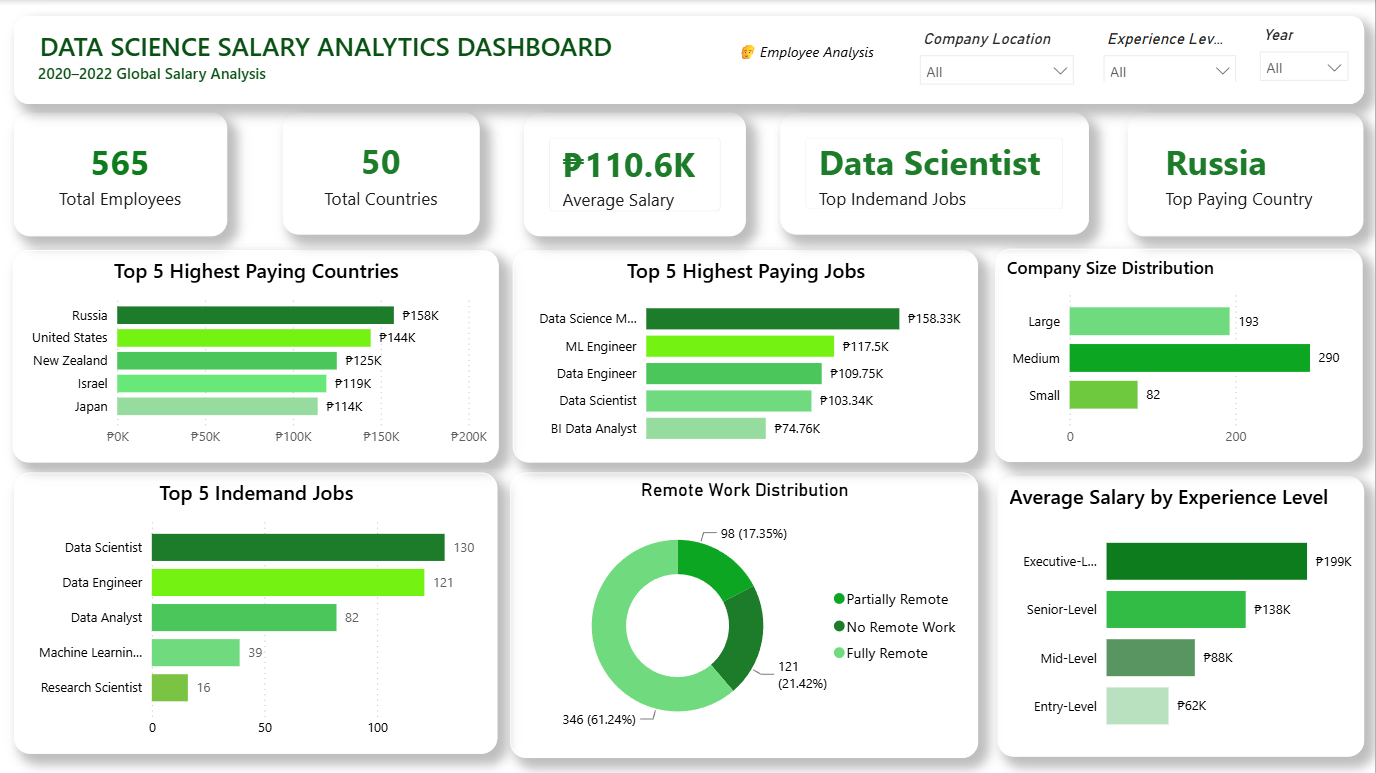

What the dashboard file says about the page in this screenshot:
{"tool":"powerbi","page":{"name":"Executive Dashboard","canvas":[1280,720],"ordinal":0},"visuals":[{"type":"cardVisual","fields":{"Data":["Data_science-salaries.Total Employees"]},"box":[14.5,105,198.8,115],"z":0},{"type":"cardVisual","fields":{"Data":["Data_science-salaries.Top Paying Country"]},"box":[1049.6,105,218.9,115],"z":1000},{"type":"clusteredBarChart","title":"Top 5 Highest Paying Countries","fields":{"Category":["Data_science-salaries.company_location"],"Y":["Data_science-salaries.Average_Salary"]},"box":[13.3,232.6,451.8,197.4],"z":2000},{"type":"clusteredBarChart","title":"Top 5 Highest Paying Jobs","fields":{"Category":["Data_science-salaries.job_title"],"Y":["Data_science-salaries.Average_Salary"]},"box":[478.4,232.6,432.4,197.4],"z":3000},{"type":"cardVisual","fields":{"Data":["Data_science-salaries.Average_Salary"]},"box":[488,105,206.6,115],"z":4000},{"type":"barChart","title":"Average Salary by Experience Level","fields":{"Category":["Data_science-salaries.experience_level"],"Y":["Data_science-salaries.Average Salary"]},"box":[929,442.6,340.5,261],"z":5000},{"type":"cardVisual","fields":{"Data":["Data_science-salaries.Total Countries"]},"box":[263.5,105,183.1,113.9],"z":6000},{"type":"cardVisual","fields":{"Data":["Data_science-salaries.Top Paying Jobs"]},"box":[726.9,105,287,113.9],"z":7000},{"type":"barChart","title":"Top 5 Indemand Jobs","fields":{"Category":["Data_science-salaries.job_title"],"Y":["Data_science-salaries.Total Employees"]},"box":[14.5,439.7,449.4,261.6],"z":8000},{"type":"donutChart","title":"Remote Work Distribution","fields":{"Category":["Data_science-salaries.remote_ratio"],"Y":["Data_science-salaries.Total Employees"]},"box":[476,439.7,434.8,265.3],"z":9000},{"type":"barChart","title":"Company Size Distribution","fields":{"Category":["Data_science-salaries.company_size"],"Y":["Data_science-salaries.Total Employees"]},"box":[926.6,231.3,341.6,198.6],"z":10000},{"type":"textbox","box":[13.4,15.6,1256.2,81.5],"z":11000},{"type":"actionButton","box":[670,29,160.8,38],"z":12000},{"type":"slicer","fields":{"Values":["Data_science-salaries.work_year"]},"box":[1159.1,15.6,109.4,64.8],"z":13000},{"type":"slicer","fields":{"Values":["Data_science-salaries.experience_level"]},"box":[1013.9,19,150.7,58.1],"z":14000},{"type":"slicer","fields":{"Values":["Data_science-salaries.company_location"]},"box":[843.1,19,170.8,61.4],"z":15000}]}

Visuals, with their boxes in screenshot pixels (x1, y1, x2, y2), scaled from the page's 1280x720 canvas onto the 1376x773 screenshot:
cardVisual - Data_science-salaries.Total Employees: bbox=(16, 113, 229, 236)
cardVisual - Data_science-salaries.Top Paying Country: bbox=(1128, 113, 1364, 236)
"Top 5 Highest Paying Countries" clusteredBarChart: bbox=(14, 250, 500, 462)
"Top 5 Highest Paying Jobs" clusteredBarChart: bbox=(514, 250, 979, 462)
cardVisual - Data_science-salaries.Average_Salary: bbox=(525, 113, 747, 236)
"Average Salary by Experience Level" barChart: bbox=(999, 475, 1365, 755)
cardVisual - Data_science-salaries.Total Countries: bbox=(283, 113, 480, 235)
cardVisual - Data_science-salaries.Top Paying Jobs: bbox=(781, 113, 1090, 235)
"Top 5 Indemand Jobs" barChart: bbox=(16, 472, 499, 753)
"Remote Work Distribution" donutChart: bbox=(512, 472, 979, 757)
"Company Size Distribution" barChart: bbox=(996, 248, 1363, 462)
textbox: bbox=(14, 17, 1365, 104)
actionButton: bbox=(720, 31, 893, 72)
slicer - Data_science-salaries.work_year: bbox=(1246, 17, 1364, 86)
slicer - Data_science-salaries.experience_level: bbox=(1090, 20, 1252, 83)
slicer - Data_science-salaries.company_location: bbox=(906, 20, 1090, 86)
